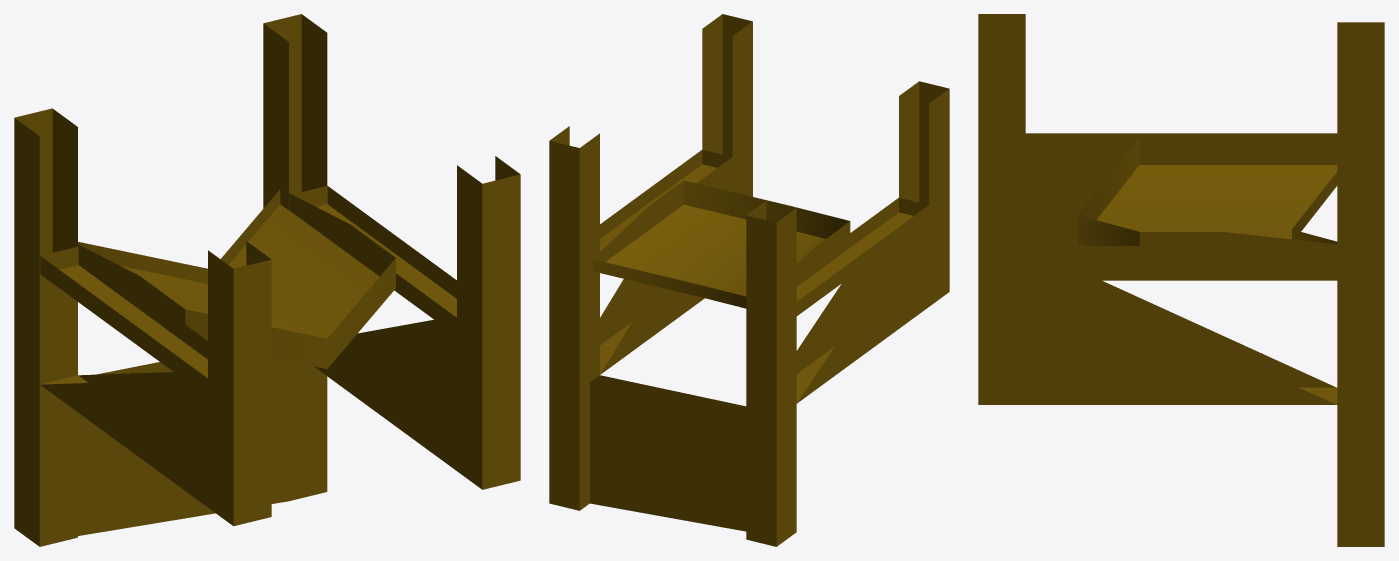
Rendered from chair_superBad.fbx.
3 renders of one model, left to right at view 1: azimuth 30°, elevation 25°; view 2: azimuth 150°, elevation 25°; view 3: azimuth 270°, elevation 25°, orthographic. The views are drawn at different scales.
Visible parts, largest first — view 1: pCube12; view 2: pCube12; view 3: pCube12.
Part boxes in pixels (<box>): pCube12: <box>14,14,520,546</box>; pCube12: <box>549,14,949,546</box>; pCube12: <box>978,14,1384,546</box>.
Bounding box in the file's own units: 19.67 × 30 × 25.95.
